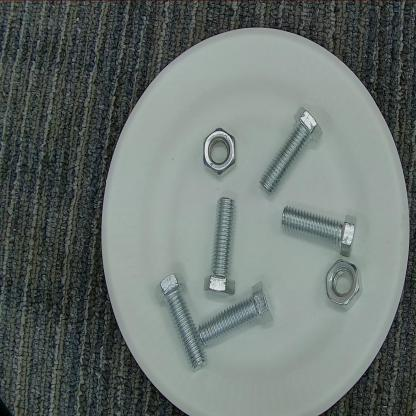FOD: (256, 100, 325, 200), (154, 273, 208, 371), (274, 200, 365, 258), (198, 280, 279, 344), (206, 193, 242, 302), (196, 122, 244, 180), (323, 256, 362, 312)
